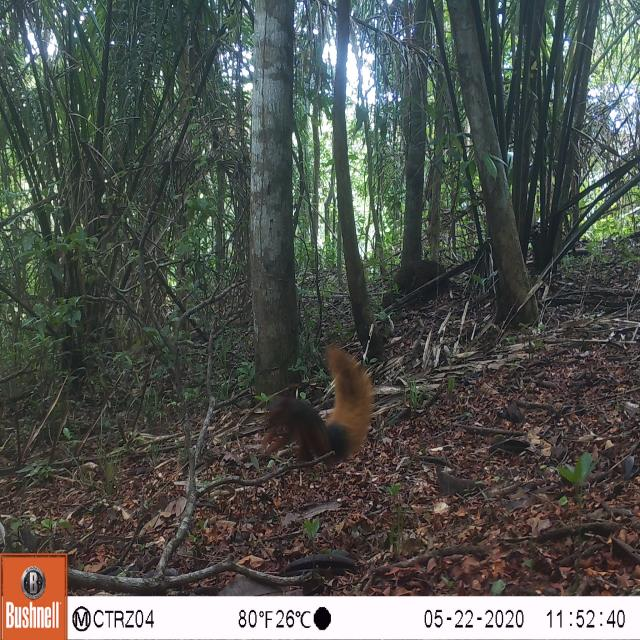Squirrel: (254, 337, 380, 484)
